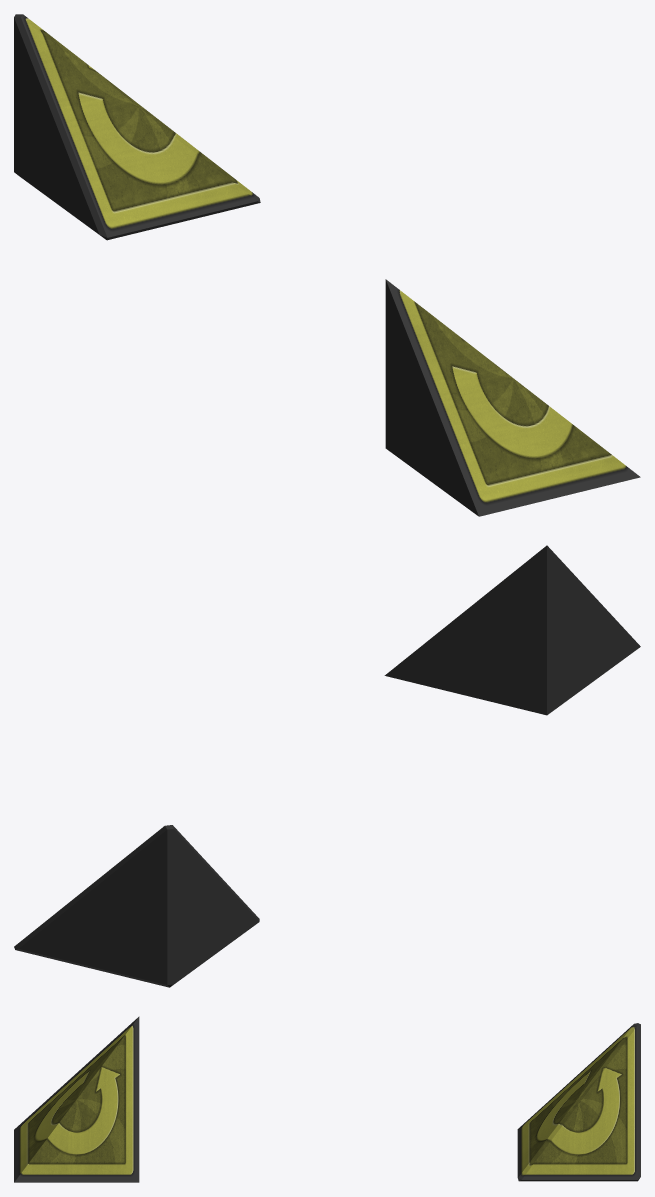
The model's file is slope.outsideCorner.1x1.fbx.
The picture shows the model from 3 angles, top to bottom: view 1: azimuth 30°, elevation 25°; view 2: azimuth 150°, elevation 25°; view 3: azimuth 270°, elevation 25°; orthographic projection. The views are drawn at different scales.
Visible parts, largest first — view 1: MESH slope.outsideCorner.1x1, MESH slope.outsideCorner.1x1.c; view 2: MESH slope.outsideCorner.1x1, MESH slope.outsideCorner.1x1.c; view 3: MESH slope.outsideCorner.1x1, MESH slope.outsideCorner.1x1.c.
Part boxes in pixels (bbox=[...]): MESH slope.outsideCorner.1x1: bbox=[385, 279, 640, 516]; MESH slope.outsideCorner.1x1.c: bbox=[14, 14, 260, 240]; MESH slope.outsideCorner.1x1: bbox=[384, 545, 640, 715]; MESH slope.outsideCorner.1x1.c: bbox=[14, 825, 259, 987]; MESH slope.outsideCorner.1x1: bbox=[14, 1016, 139, 1182]; MESH slope.outsideCorner.1x1.c: bbox=[517, 1023, 640, 1181].
Size of what is drawn, in the model's own units: 100 by 100 by 500.
